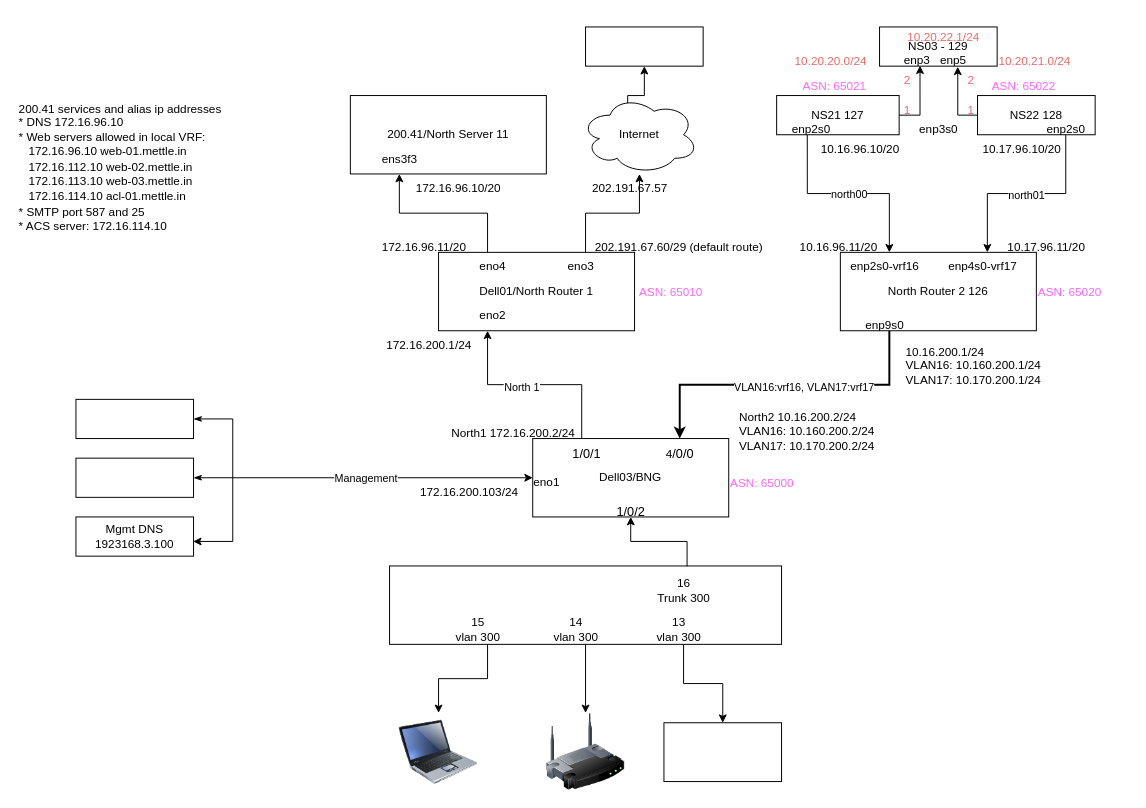
Some shapes in this 1146 by 808 pixel diagram are drawn without their labels. The centre of each missing label's shape, as x and y in pixels:
Docker 170.206: the point at 722,752
Portal 192.168.200.67: the point at 134,477
Radius 192.168.200.122: the point at 134,418
Sub DNS 8.8.8.8: the point at 644,46
